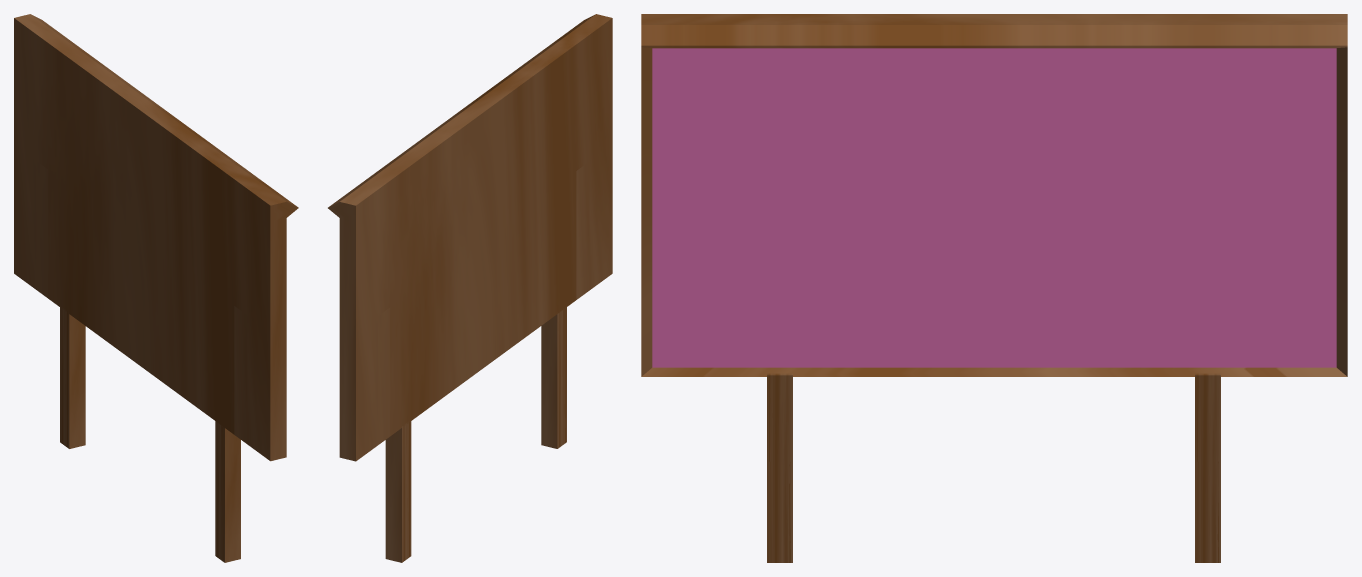
File: sign.gltf
3 views of the same model, side by side, from view 1: azimuth 30°, elevation 25°; view 2: azimuth 150°, elevation 25°; view 3: azimuth 270°, elevation 25° (orthographic). The views are drawn at different scales.
Parts seen in each view (by area): view 1: Cube.042, Cube.041, Cube.038; view 2: Cube.042, Cube.041, Cube.038; view 3: Cube.042, Cube.041, Cube.038.
Boxes of the visible parts, left/top/right/bottom form: Cube.042: left=14, top=14, right=298, bottom=461; Cube.041: left=60, top=306, right=85, bottom=448; Cube.038: left=215, top=421, right=240, bottom=562; Cube.042: left=328, top=14, right=612, bottom=461; Cube.041: left=385, top=420, right=411, bottom=562; Cube.038: left=541, top=307, right=566, bottom=448; Cube.042: left=641, top=14, right=1347, bottom=376; Cube.041: left=1195, top=373, right=1220, bottom=562; Cube.038: left=767, top=373, right=792, bottom=562.
Size of the model in its own units: 2.42 by 31.69 by 37.71.
Materials: 2 (1 with a texture image).
